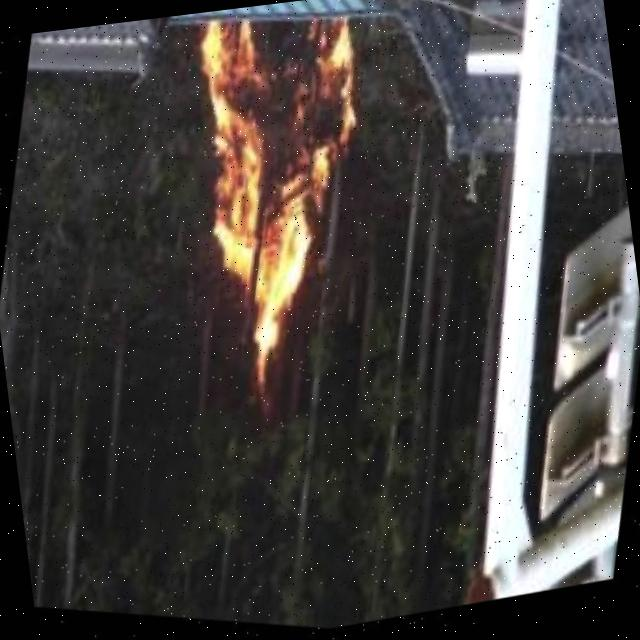fire: (143, 0, 403, 378)
